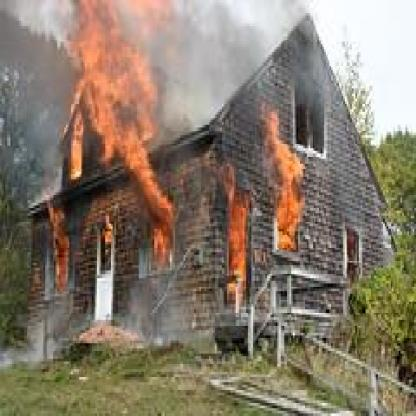fire: (34, 0, 183, 281), (264, 108, 305, 263), (220, 162, 254, 307)
